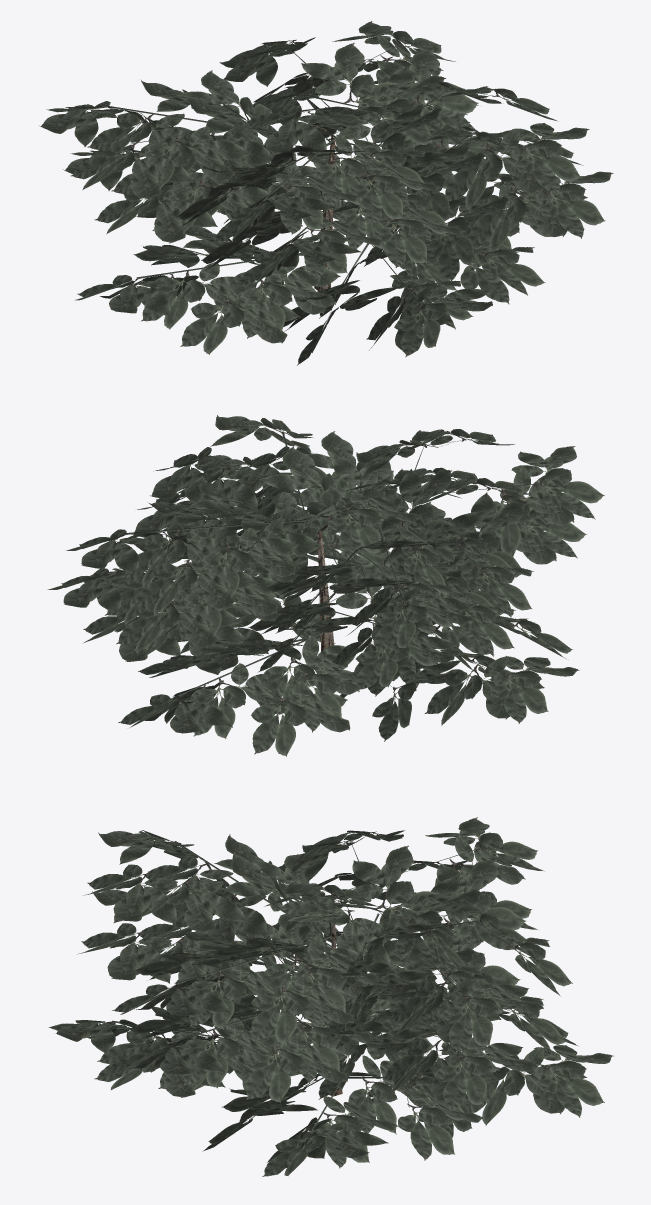
The model's file is Bush1.fbx.
3 renders of one model, top to bottom at view 1: azimuth 30°, elevation 25°; view 2: azimuth 150°, elevation 25°; view 3: azimuth 270°, elevation 25°, orthographic. The views are drawn at different scales.
Visible parts, largest first — view 1: polySurface53; view 2: polySurface53, pCylinder7; view 3: polySurface53.
Boxes of the visible parts, <box> form: polySurface53: <box>39,21,613,365</box>; polySurface53: <box>47,415,604,756</box>; pCylinder7: <box>317,524,334,651</box>; polySurface53: <box>48,817,613,1176</box>.
Bounding box in the file's own units: 1.58 × 0.6338 × 1.55.
2 materials, 2 textured.
